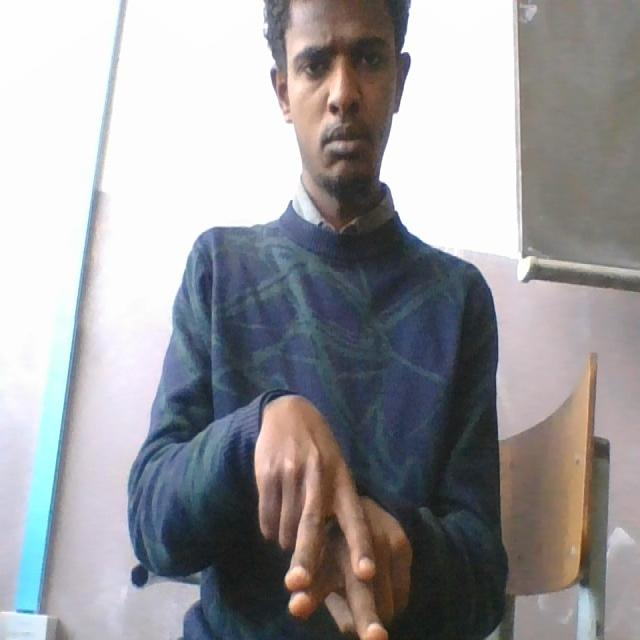babur: (241, 386, 414, 640)
